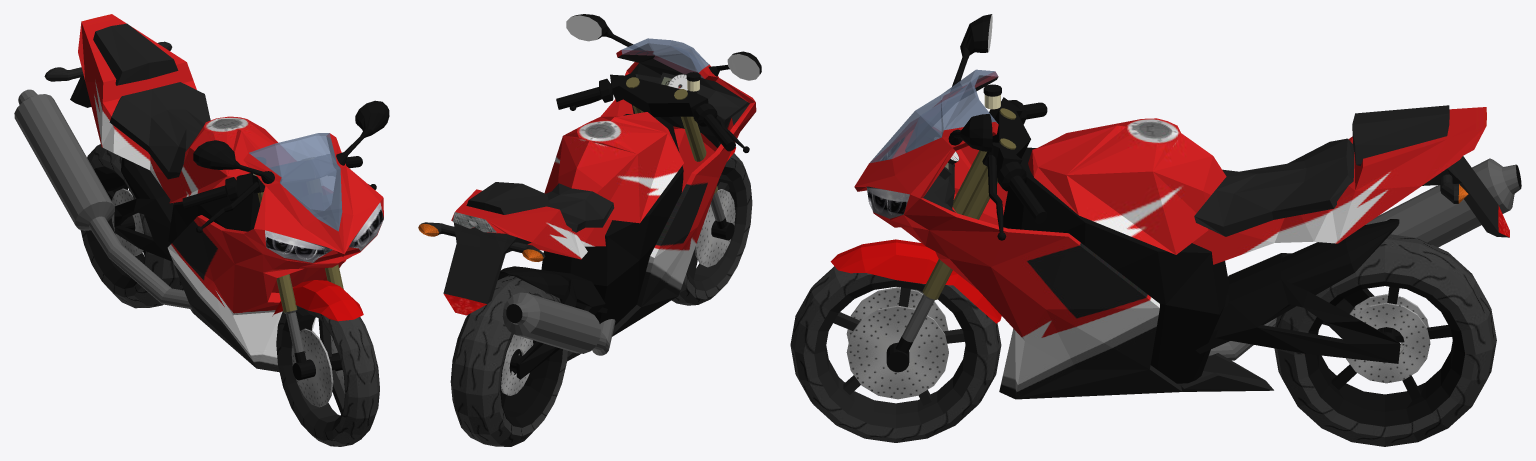
Rendered from yamaha-yzr-r6.obj.
3 views of the same model, side by side, from view 1: azimuth 30°, elevation 25°; view 2: azimuth 150°, elevation 25°; view 3: azimuth 270°, elevation 25° (orthographic). The views are drawn at different scales.
Visible parts, largest first — view 1: baseuv_Plane.004, baseuv.001_Plane.001, Circle.002, Plane.007_Plane.008, Plane.006_Plane.007, Circle.001, Plane, Torus.001, Cube, Torus.004_Torus.005, Cylinder, Circle; view 2: baseuv_Plane.004, Plane, Circle.002, Cube, baseuv.001_Plane.001, Torus.004_Torus.005, Circle.001, Plane.007_Plane.008, sweethome3d_window_mirror, Cylinder, Circle, Plane.006_Plane.007 (+1 smaller); view 3: baseuv_Plane.004, baseuv.001_Plane.001, Plane, Circle.001, Torus.004_Torus.005, Circle.002, Circle, Torus.001, Cube, Plane.007_Plane.008, Cylinder, Plane.006_Plane.007.
Boxes of the visible parts, box(x1,y1,x2,y2) form: baseuv_Plane.004: box(44, 14, 383, 407); baseuv.001_Plane.001: box(276, 305, 379, 446); Circle.002: box(14, 89, 191, 309); Plane.007_Plane.008: box(249, 133, 342, 231); Plane.006_Plane.007: box(193, 100, 389, 183); Circle.001: box(114, 195, 173, 261); Plane: box(168, 193, 260, 244); Torus.001: box(272, 280, 363, 321); Cube: box(182, 156, 376, 233); Torus.004_Torus.005: box(86, 166, 145, 288); Cylinder: box(257, 192, 343, 363); Circle: box(121, 157, 166, 199); baseuv_Plane.004: box(418, 50, 756, 446); Plane: box(541, 114, 683, 325); Circle.002: box(502, 292, 615, 355); Cube: box(556, 73, 749, 152); baseuv.001_Plane.001: box(672, 153, 752, 305); Torus.004_Torus.005: box(500, 334, 562, 427); Circle.001: box(516, 270, 605, 379); Plane.007_Plane.008: box(621, 38, 709, 78); sweethome3d_window_mirror: box(566, 15, 759, 80); Cylinder: box(626, 77, 727, 228); Circle: box(498, 266, 607, 313); Plane.006_Plane.007: box(572, 14, 761, 76); baseuv_Plane.004: box(846, 72, 1509, 446); baseuv.001_Plane.001: box(790, 266, 1001, 442); Plane: box(1003, 147, 1229, 383); Circle.001: box(1215, 253, 1400, 363); Torus.004_Torus.005: box(1304, 281, 1464, 426); Circle.002: box(1208, 158, 1521, 360); Circle: box(1196, 219, 1399, 353); Torus.001: box(830, 239, 1001, 323); Cube: box(982, 97, 1047, 240); Plane.007_Plane.008: box(870, 69, 998, 162); Cylinder: box(895, 108, 1016, 353); Plane.006_Plane.007: box(948, 14, 992, 152).
Bounding box in the file's own units: 79.55 × 115 × 203.
Materials: 17 (9 with a texture image).
